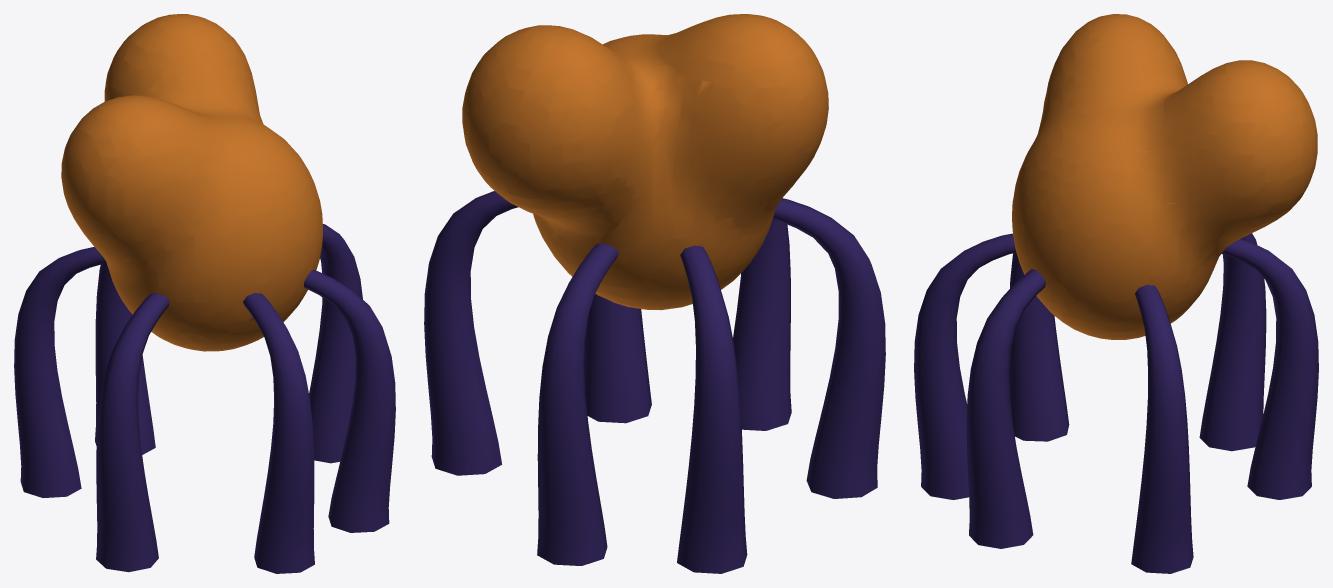
File: Tree_Blob_2.glb
The picture shows the model from 3 angles, left to right: view 1: azimuth 30°, elevation 25°; view 2: azimuth 150°, elevation 25°; view 3: azimuth 270°, elevation 25°; orthographic projection. The views are drawn at different scales.
Visible parts, largest first — view 1: Tree_Blob_2; view 2: Tree_Blob_2; view 3: Tree_Blob_2.
Boxes of the visible parts, box(x1,y1,x2,y2) form: Tree_Blob_2: box(14, 14, 395, 573); Tree_Blob_2: box(424, 14, 885, 573); Tree_Blob_2: box(914, 14, 1318, 573).
Size of the model in its own units: 3.69 by 4.61 by 3.86.
1 material, 1 textured.
